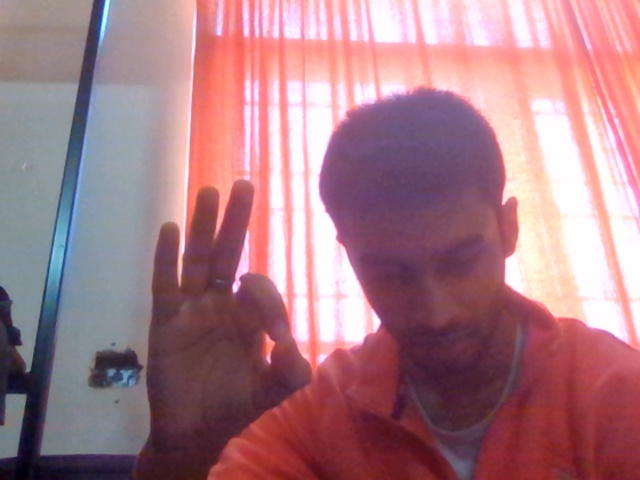F: (125, 176, 334, 480)
